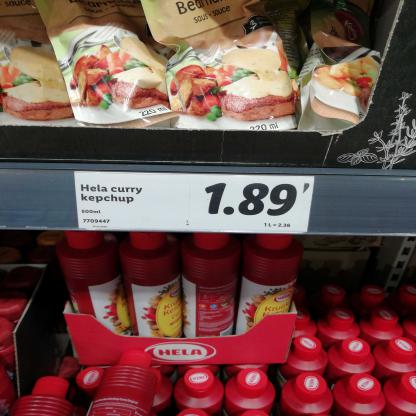prtg: (75, 172, 316, 234)
